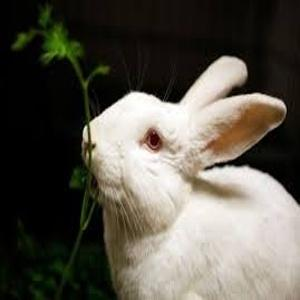rabbit: (81, 56, 300, 300)
